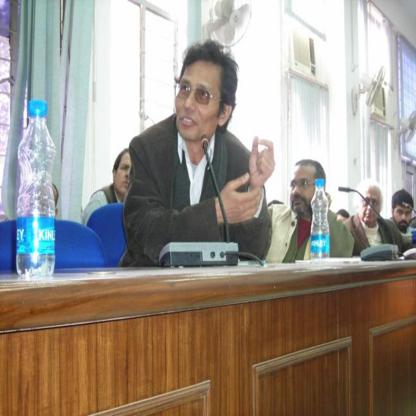face: (177, 62, 222, 140), (291, 168, 316, 213), (117, 153, 142, 195), (361, 192, 380, 224), (396, 205, 412, 230)
